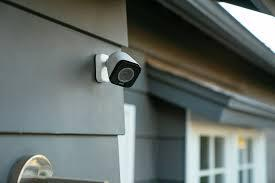tutu: (105, 48, 143, 92)
